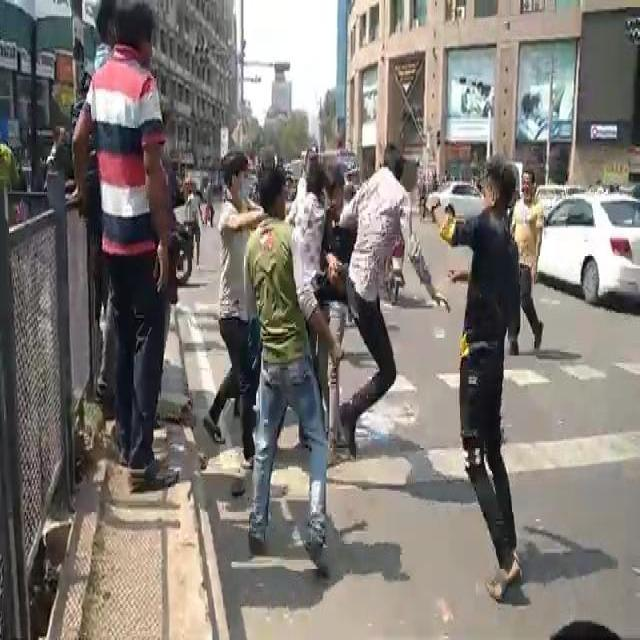fight: (216, 104, 418, 520), (76, 0, 176, 455), (432, 134, 520, 598)
